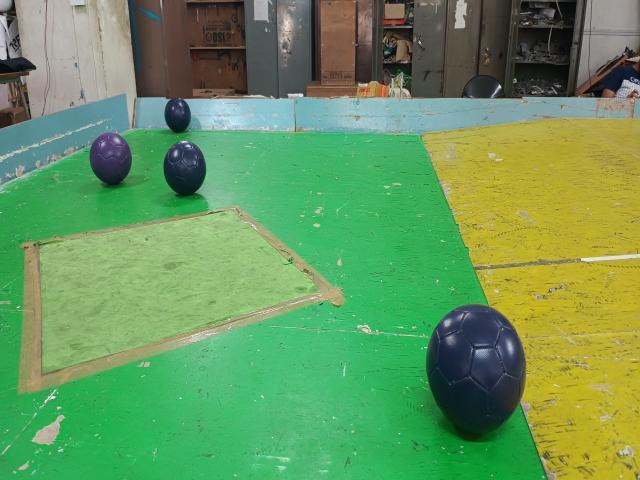jambhalya: (90, 133, 132, 185)
kaalyya: (426, 305, 526, 433), (164, 142, 206, 195), (165, 98, 191, 132)
